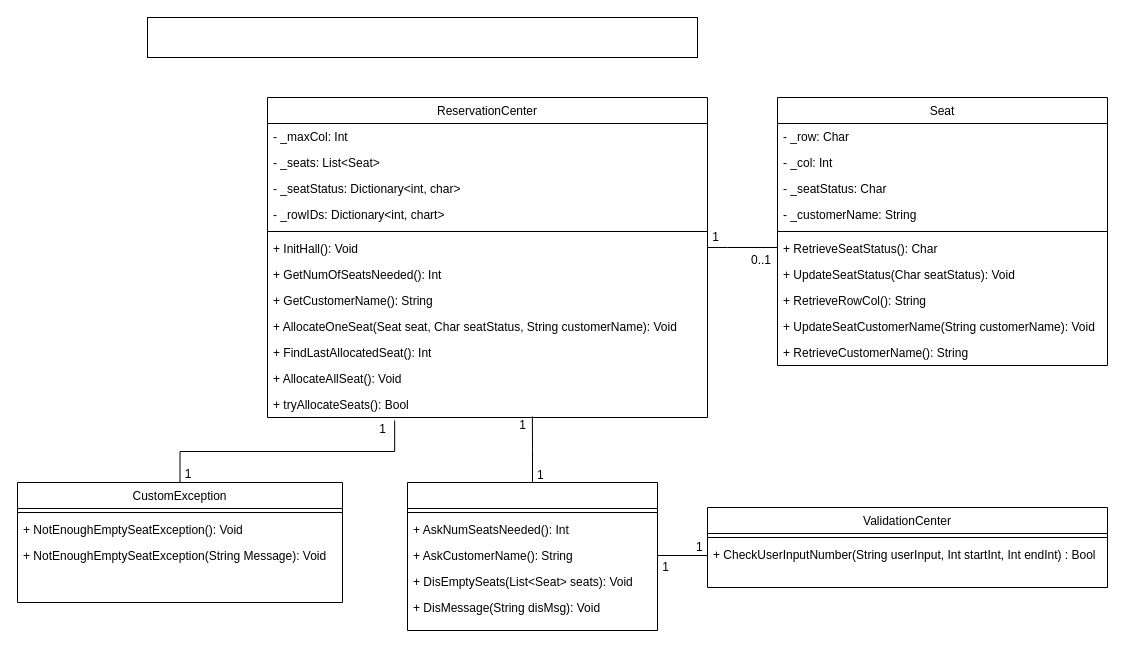
Image size: 1125x648. Some labels were removed from this diagram. The shapes that lost their labels are listed below. From the top down, each one's box as (x1, y1, x2, y2) in pixels, then its label:
(146, 16, 698, 58): Cinnamon Cinemas Movie Theatre Seating Challenge
(406, 482, 658, 630): UserInterface
